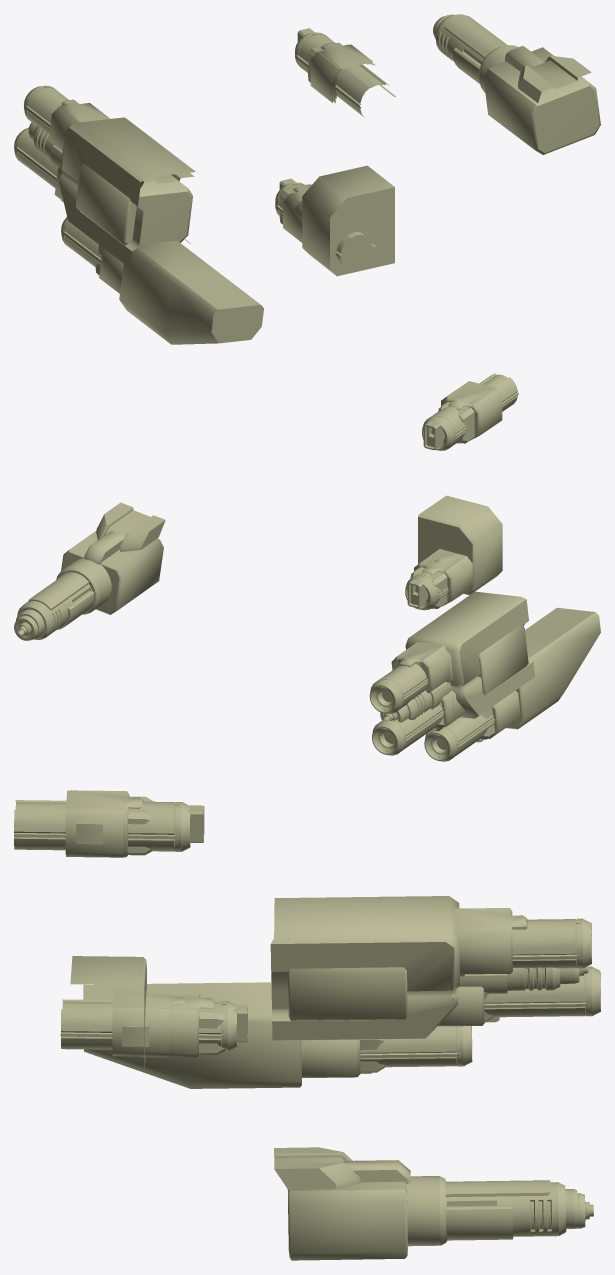
The model's file is EnforcerWeapons.glb.
3 views of the same model, one above another, from view 1: azimuth 30°, elevation 25°; view 2: azimuth 150°, elevation 25°; view 3: azimuth 270°, elevation 25° (orthographic). The views are drawn at different scales.
Visible parts, largest first — view 1: Forearm_Left_EH3_PPC, Torso_Left_EH1_Laser, Forearm_Left_BH1_Blank, Forearm_Left_EH1_Blank, Torso_Left_EH1_Flamer, Forearm_Left_EH1_Flamer, Forearm_Right_BH1_AC10, Forearm_Right_BH1_MG, Forearm_Right_BH1_AC20, Torso_Left_EH2_PPC, Torso_Left_EH1_PPC, Forearm_Right_BH1_Blank (+6 smaller); view 2: Forearm_Left_EH3_PPC, Forearm_Right_BH1_AC20, Forearm_Left_EH1_Flamer, Torso_Left_EH1_PPC, Forearm_Right_BH1_AC10, Forearm_Left_EH1_PPC, Forearm_Left_EH1_Blank, Torso_Left_EH1_Flamer, Forearm_Right_BH1_Blank, Torso_Left_EH2_PPC, Forearm_Left_EH2_PPC, Torso_Left_EH1_Laser (+6 smaller); view 3: Forearm_Left_EH1_Blank, Forearm_Right_BH1_AC20, Forearm_Right_BH1_AC10, Torso_Left_EH2_PPC, Forearm_Left_EH3_PPC, Forearm_Left_EH1_PPC, Torso_Left_EH1_PPC, Forearm_Left_EH3_Flamer, Forearm_Left_BH1_MG, Forearm_Left_EH2_PPC, Torso_Left_EH1_Flamer, Forearm_Left_BH1_AC10 (+4 smaller).
Part boxes in pixels (left/top/right/bottom): Forearm_Left_EH3_PPC: left=61, top=217, right=263, bottom=344; Torso_Left_EH1_Laser: left=279, top=184, right=394, bottom=276; Forearm_Left_BH1_Blank: left=75, top=168, right=192, bottom=245; Forearm_Left_EH1_Blank: left=61, top=117, right=198, bottom=267; Torso_Left_EH1_Flamer: left=279, top=165, right=394, bottom=275; Forearm_Left_EH1_Flamer: left=59, top=123, right=142, bottom=262; Forearm_Right_BH1_AC10: left=433, top=16, right=595, bottom=113; Forearm_Right_BH1_MG: left=531, top=86, right=600, bottom=154; Forearm_Right_BH1_AC20: left=434, top=14, right=590, bottom=92; Torso_Left_EH2_PPC: left=295, top=32, right=395, bottom=117; Torso_Left_EH1_PPC: left=275, top=176, right=376, bottom=268; Forearm_Right_BH1_Blank: left=483, top=51, right=593, bottom=149; Forearm_Left_EH3_PPC: left=424, top=608, right=600, bottom=761; Forearm_Right_BH1_AC20: left=16, top=529, right=121, bottom=639; Forearm_Left_EH1_Flamer: left=407, top=600, right=534, bottom=718; Torso_Left_EH1_PPC: left=405, top=507, right=502, bottom=610; Forearm_Right_BH1_AC10: left=14, top=502, right=165, bottom=640; Forearm_Left_EH1_PPC: left=369, top=642, right=449, bottom=714; Forearm_Left_EH1_Blank: left=405, top=591, right=532, bottom=694; Torso_Left_EH1_Flamer: left=407, top=495, right=501, bottom=608; Forearm_Right_BH1_Blank: left=64, top=507, right=165, bottom=614; Torso_Left_EH2_PPC: left=422, top=373, right=518, bottom=450; Forearm_Left_EH2_PPC: left=372, top=693, right=454, bottom=755; Torso_Left_EH1_Laser: left=410, top=517, right=501, bottom=608; Forearm_Left_EH1_Blank: left=270, top=896, right=459, bottom=1040; Forearm_Right_BH1_AC20: left=274, top=1153, right=577, bottom=1260; Forearm_Right_BH1_AC10: left=274, top=1147, right=585, bottom=1253; Torso_Left_EH2_PPC: left=14, top=790, right=190, bottom=857; Forearm_Left_EH3_PPC: left=83, top=982, right=472, bottom=1077; Forearm_Left_EH1_PPC: left=451, top=908, right=591, bottom=991; Torso_Left_EH1_PPC: left=60, top=977, right=237, bottom=1066; Forearm_Left_EH3_Flamer: left=84, top=1015, right=301, bottom=1088; Forearm_Left_BH1_MG: left=290, top=973, right=407, bottom=1020; Forearm_Left_EH2_PPC: left=438, top=966, right=600, bottom=1026; Torso_Left_EH1_Flamer: left=70, top=956, right=247, bottom=1072; Forearm_Left_BH1_AC10: left=274, top=931, right=579, bottom=993.
Bounding box in the file's own units: 1.4 × 0.8054 × 1.22.
